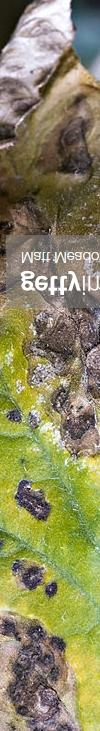Tomato Septoria leaf spot: (0, 1, 100, 731)
